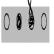correct: (16, 12, 22, 31)
not correct: (27, 0, 35, 33)
